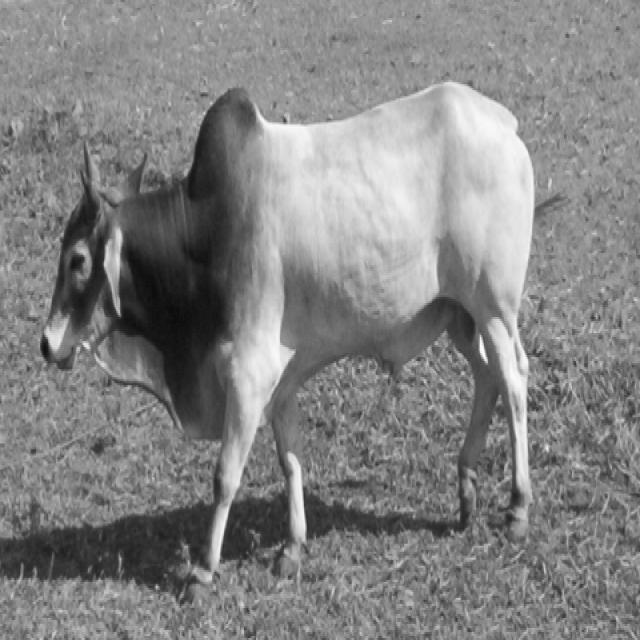Cow: (39, 76, 562, 608)
